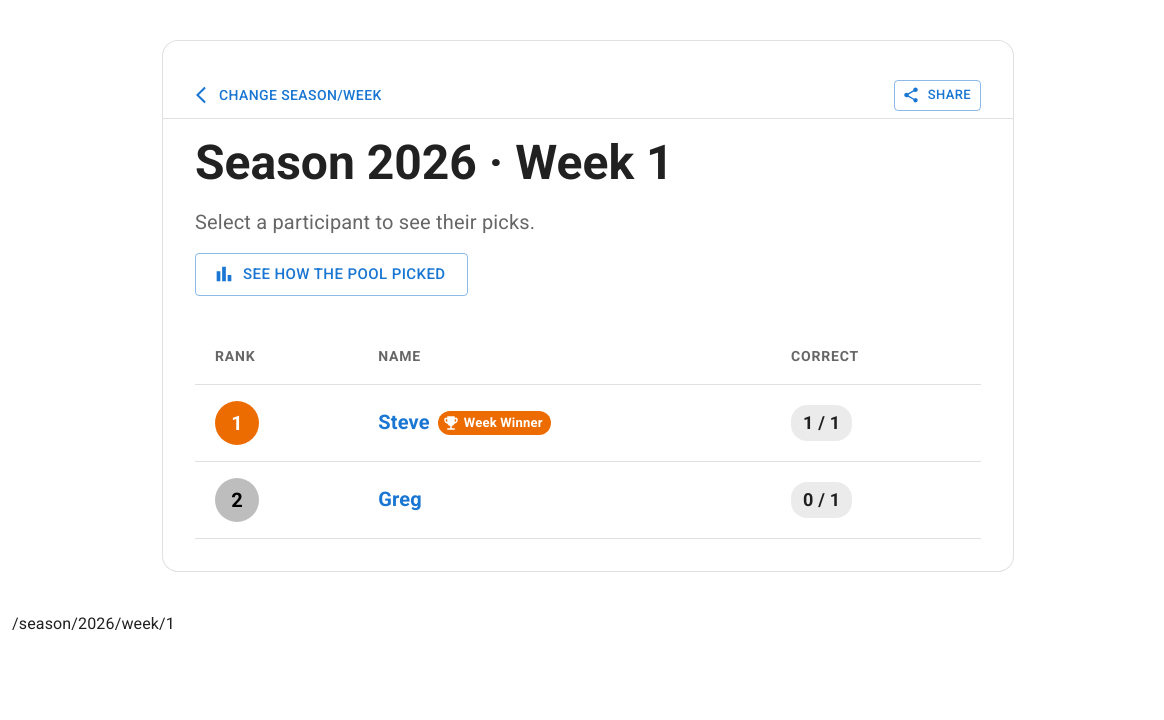
App routing › navigates from the standings to the pick dashboard and back
Step 1. Click the link "See how the pool picked" → (331, 274), box [195, 253, 468, 296]
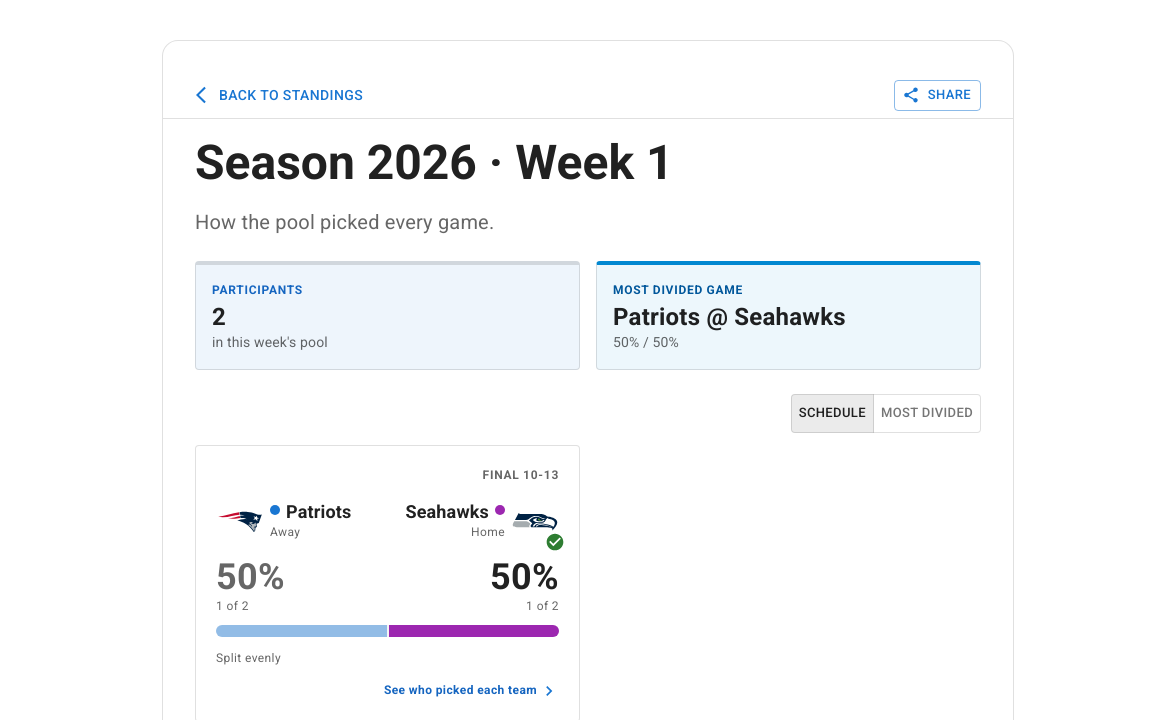
Now the heading named "Patriots at Seahawks" is shown, box [216, 498, 559, 546]
Step 2. Click the link "Back to standings" → (277, 95), box [191, 85, 363, 105]
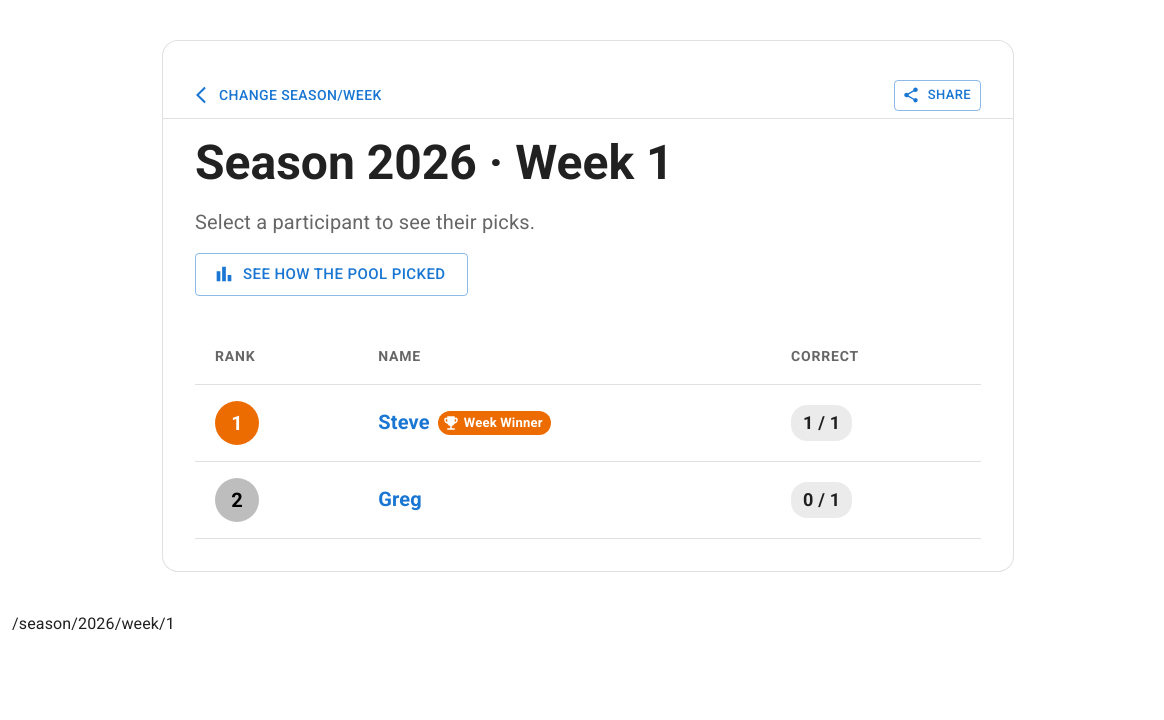
Now the text with test id "location" reads "/season/2026/week/1", box [12, 614, 175, 633]
Now the link "See how the pool picked" is shown, box [195, 253, 468, 296]
